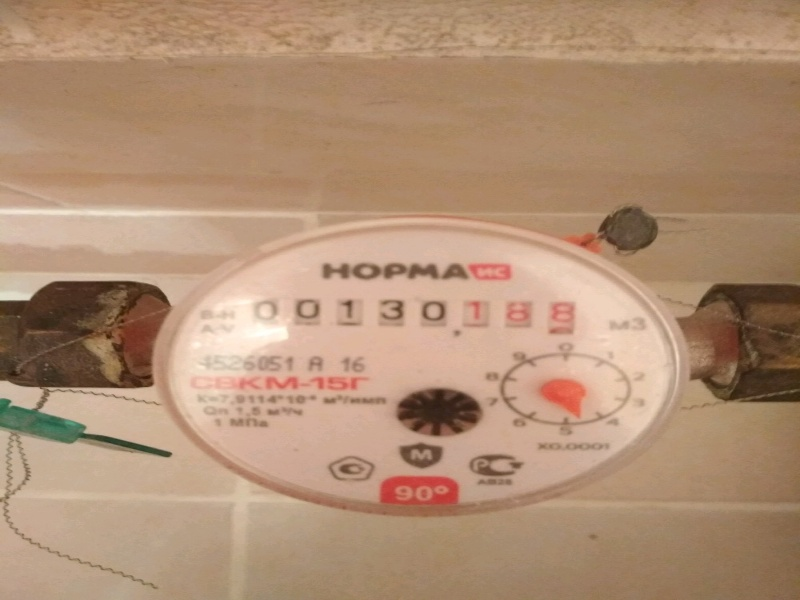dial: (253, 281, 582, 340)
